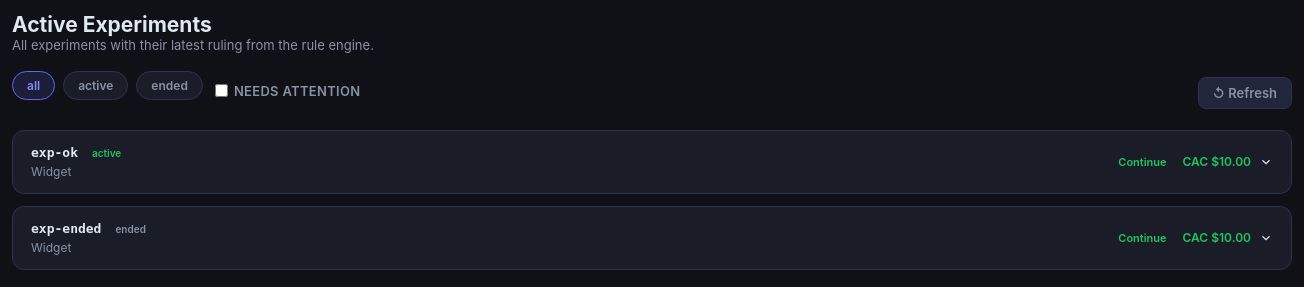
Test: ActiveExperiments lifecycle wiring › filters by ended status
Click the button "ended" at [170, 85], box [136, 70, 203, 100]
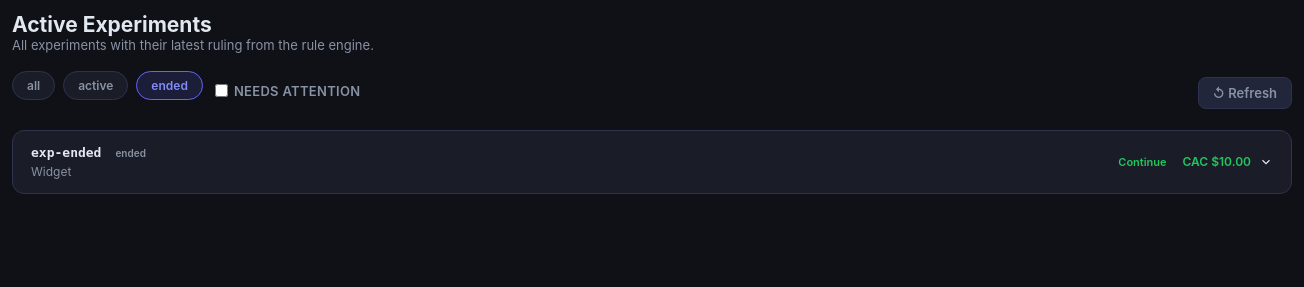
Check: the text "exp-ended" is shown, box [31, 145, 102, 160]
Check: the text "exp-ok" is gone
